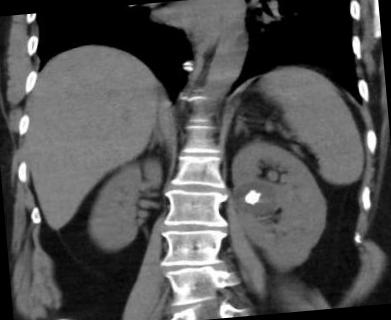Tas_Var: (242, 187, 262, 208)
